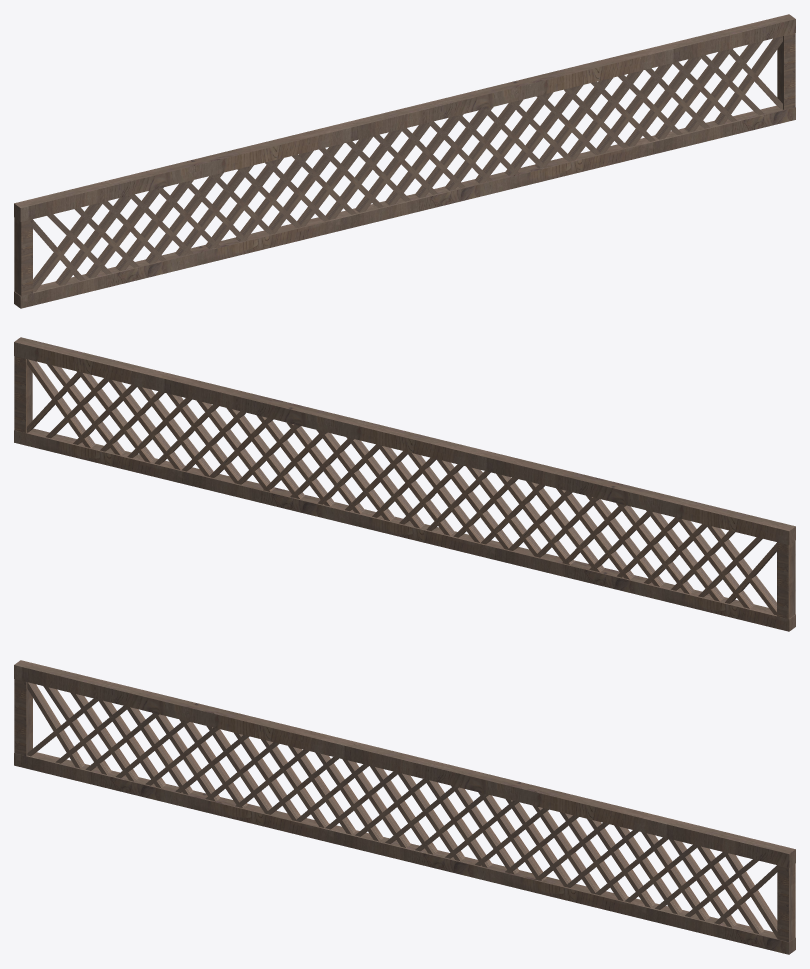
The model's file is RC_Garden_Wood_Railing.gltf.
The picture shows the model from 3 angles, top to bottom: view 1: azimuth 30°, elevation 25°; view 2: azimuth 150°, elevation 25°; view 3: azimuth 330°, elevation 25°; orthographic projection.
Parts seen in each view (by area): view 1: RC_Garden_Wood_Railing(Clone); view 2: RC_Garden_Wood_Railing(Clone); view 3: RC_Garden_Wood_Railing(Clone).
Part boxes in pixels (x1,y1,x2,y2): RC_Garden_Wood_Railing(Clone): [14, 14, 795, 308]; RC_Garden_Wood_Railing(Clone): [14, 337, 795, 631]; RC_Garden_Wood_Railing(Clone): [14, 660, 795, 954].
Bounding box in the file's own units: 7.32 × 0.9087 × 0.1109.
2 materials, 2 textured.
